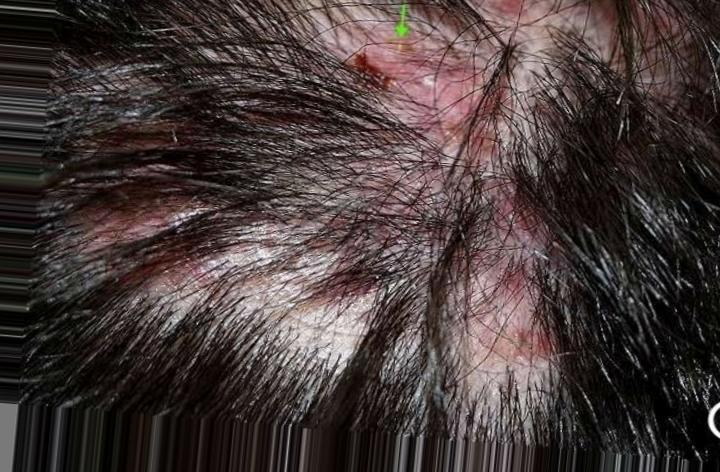Folliculitis: (202, 0, 545, 376)
